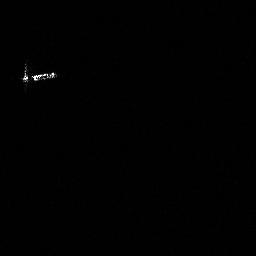ship: (19, 64, 58, 85)
